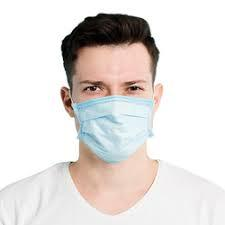mask: (68, 92, 156, 168)
